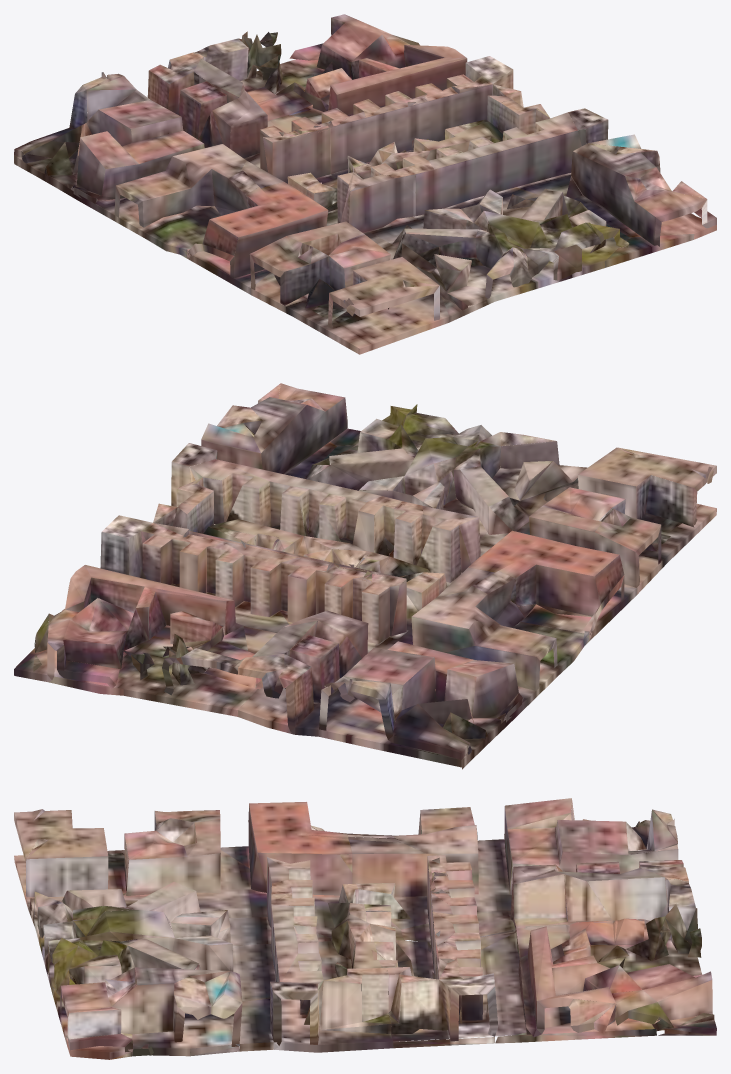
3 views of the same model, one above another, from view 1: azimuth 30°, elevation 25°; view 2: azimuth 150°, elevation 25°; view 3: azimuth 270°, elevation 25° (orthographic). The views are drawn at different scales.
Parts seen in each view (by area): view 1: Mesh_0; view 2: Mesh_0; view 3: Mesh_0.
Part boxes in pixels (x1=…): Mesh_0: x1=14, y1=14, x2=716, y2=354; Mesh_0: x1=14, y1=383, x2=716, y2=769; Mesh_0: x1=14, y1=798, x2=716, y2=1059.
Size of the model in its own units: 266 by 41.2 by 330.
2 materials, 2 textured.
